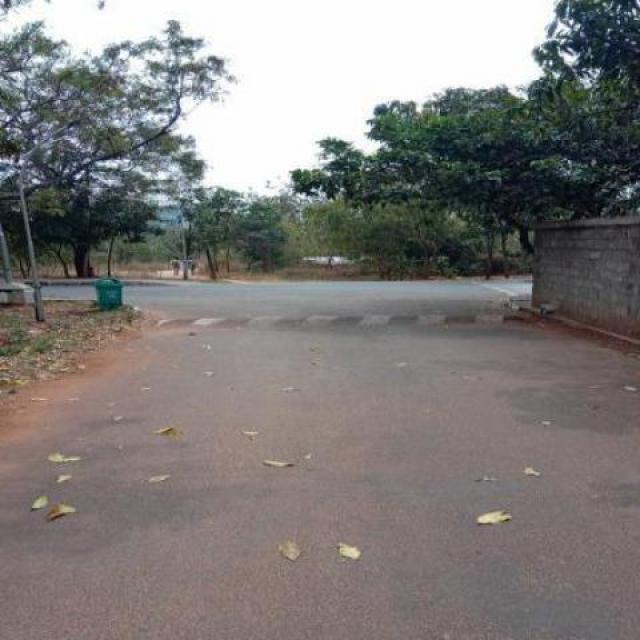Speed Bump: (124, 310, 536, 322)
